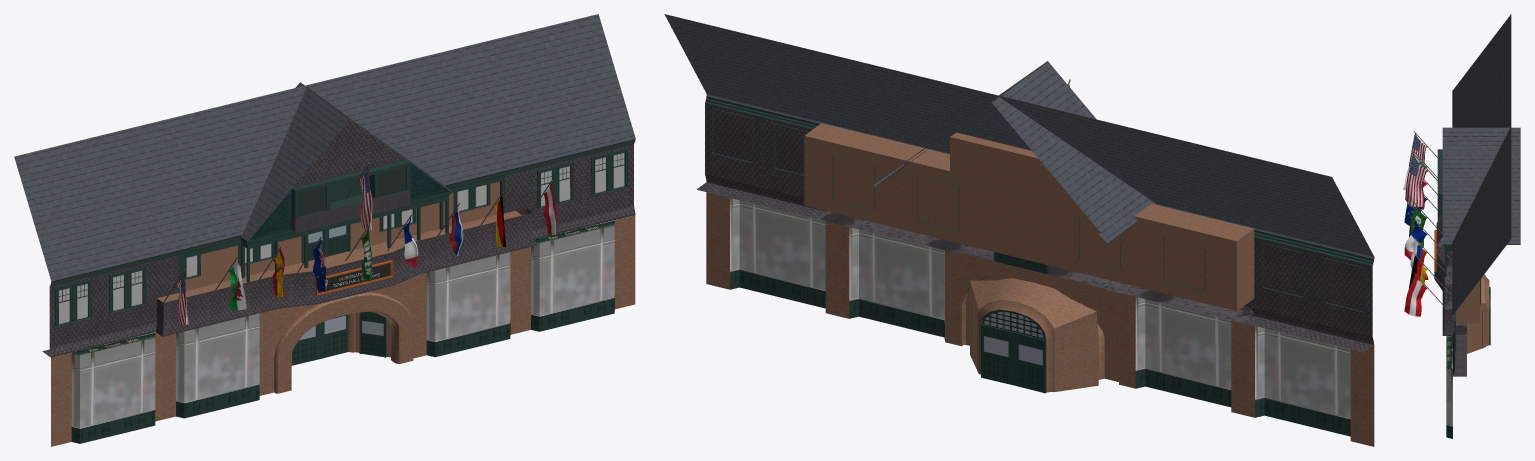
File: Onboarding_01.fbx
The picture shows the model from 3 angles, left to right: view 1: azimuth 30°, elevation 25°; view 2: azimuth 150°, elevation 25°; view 3: azimuth 270°, elevation 25°; orthographic projection. The views are drawn at different scales.
Visible parts, largest first — view 1: Box001, Object046, Object052, Object044, Object049, Line002, Object133, Object053, Object050, Object132, Object134, Object043 (+12 smaller); view 2: Box001, Object049, Object046, Object052, Object044, Object041, Object135, Object136, Object133, Object043; view 3: Box001, Line002, Object052, Object041, Object046, Object049, Object053, Object133.
Boxes of the visible parts, x1,y1,x2,y2 form: Box001: (14, 14, 635, 282); Object046: (71, 220, 614, 443); Object052: (42, 119, 635, 357); Object044: (51, 215, 635, 446); Object049: (157, 181, 526, 302); Line002: (163, 163, 556, 324); Object133: (50, 140, 635, 292); Object053: (291, 160, 410, 218); Object050: (250, 163, 449, 239); Object132: (299, 167, 405, 216); Object134: (315, 260, 393, 295); Object043: (359, 311, 386, 357); Box001: (664, 14, 1374, 258); Object049: (804, 123, 1254, 310); Object046: (730, 198, 1350, 436); Object052: (697, 103, 1373, 352); Object044: (706, 192, 1374, 446); Object041: (970, 278, 1098, 392); Object135: (1013, 332, 1046, 393); Object136: (981, 324, 1013, 384); Object133: (705, 96, 1373, 265); Object043: (971, 295, 1089, 371); Box001: (1442, 14, 1520, 316); Line002: (1403, 131, 1451, 316); Object052: (1434, 215, 1466, 376); Object041: (1467, 274, 1489, 353); Object046: (1446, 336, 1452, 438); Object049: (1456, 280, 1479, 323); Object053: (1437, 149, 1442, 215); Object133: (1442, 244, 1454, 320).
Size of the model in its own units: 31.71 by 13.66 by 7.
